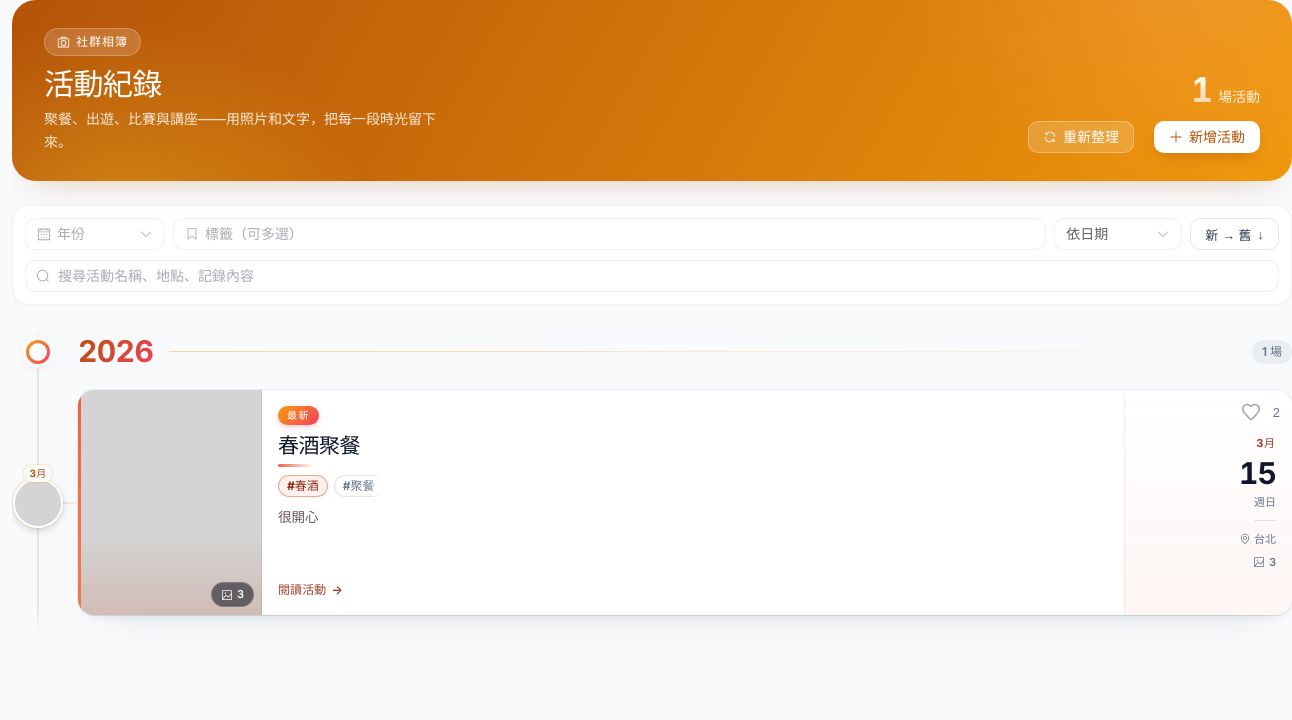
Test case: Events — card likes › likes an event straight from its card without opening it
Check: the button with test id "like-count" reads "2", box [1269,403,1284,422]
Click the button with test id "like-toggle".
click(1251, 412)  # box [1237,398,1265,426]
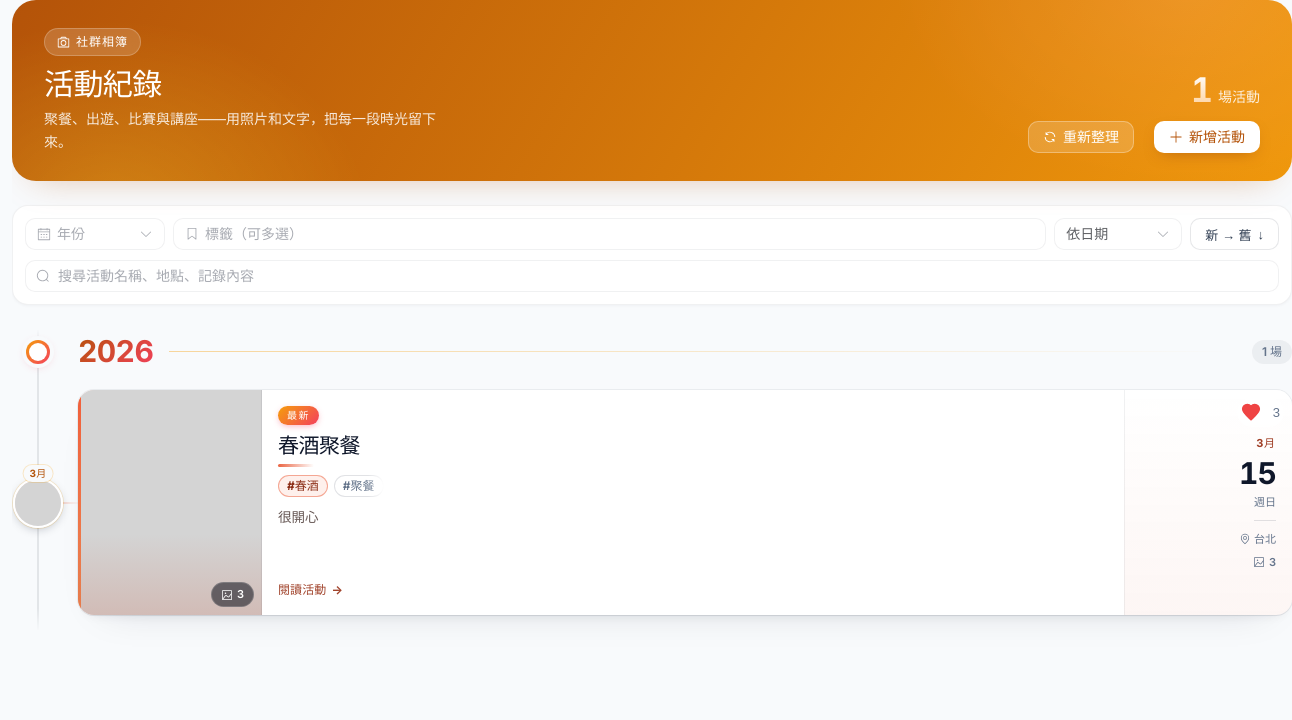
Check: the button with test id "like-count" reads "3", box [1269,403,1284,422]
